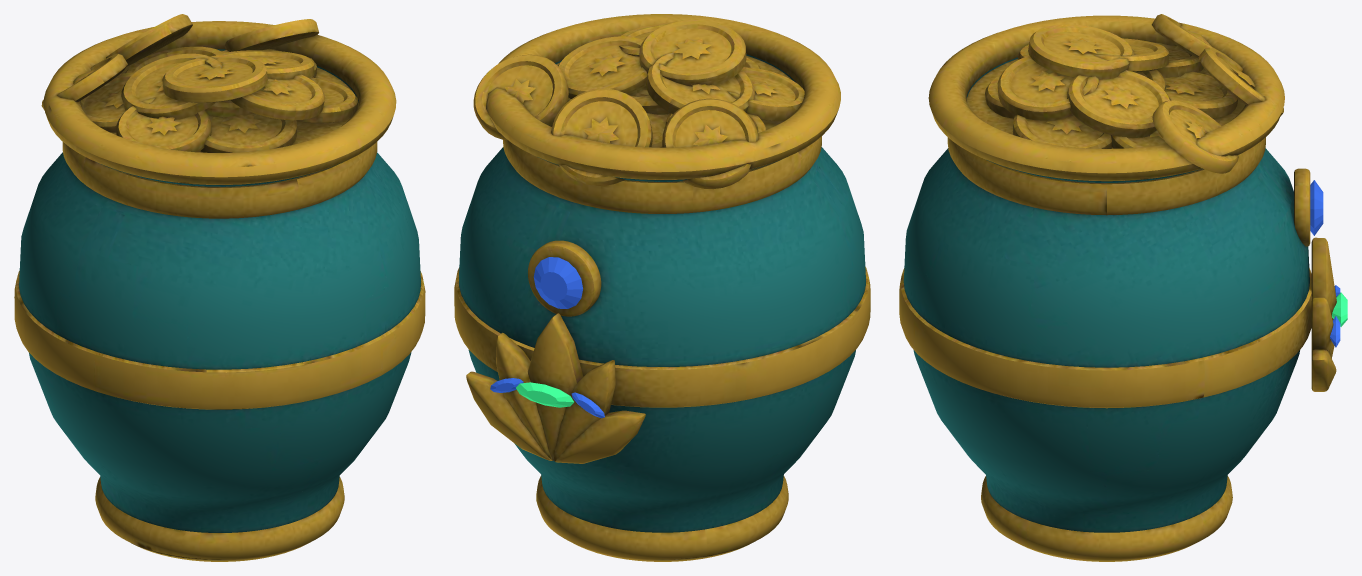
3 views of the same model, side by side, from view 1: azimuth 30°, elevation 25°; view 2: azimuth 150°, elevation 25°; view 3: azimuth 270°, elevation 25° (orthographic).
Visible parts, largest first — view 1: Glossy_teal_faience, Polished_Egyptian_gold, anim_Polished_Egyptian_gold_0; view 2: Glossy_teal_faience, Polished_Egyptian_gold, anim_Polished_Egyptian_gold_0, glow_Soft_luminous_lapis, glow_Soft_luminous_emerald; view 3: Glossy_teal_faience, Polished_Egyptian_gold, anim_Polished_Egyptian_gold_0, glow_Soft_luminous_lapis.
Boxes of the visible parts, x1=… form: Glossy_teal_faience: x1=19, y1=49, x2=420, y2=532; Polished_Egyptian_gold: x1=14, y1=21, x2=425, y2=561; anim_Polished_Egyptian_gold_0: x1=41, y1=14, x2=358, y2=152; Glossy_teal_faience: x1=459, y1=54, x2=865, y2=532; Polished_Egyptian_gold: x1=454, y1=14, x2=870, y2=561; anim_Polished_Egyptian_gold_0: x1=473, y1=20, x2=804, y2=189; glow_Soft_luminous_lapis: x1=490, y1=257, x2=604, y2=418; glow_Soft_luminous_emerald: x1=516, y1=382, x2=573, y2=407; Glossy_teal_faience: x1=903, y1=57, x2=1309, y2=532; Polished_Egyptian_gold: x1=899, y1=15, x2=1336, y2=561; anim_Polished_Egyptian_gold_0: x1=985, y1=14, x2=1283, y2=173; glow_Soft_luminous_lapis: x1=1310, y1=180, x2=1340, y2=347.
Size of the model in its own units: 1.64 by 2.04 by 1.77.
Materials: 4 (2 with a texture image).
